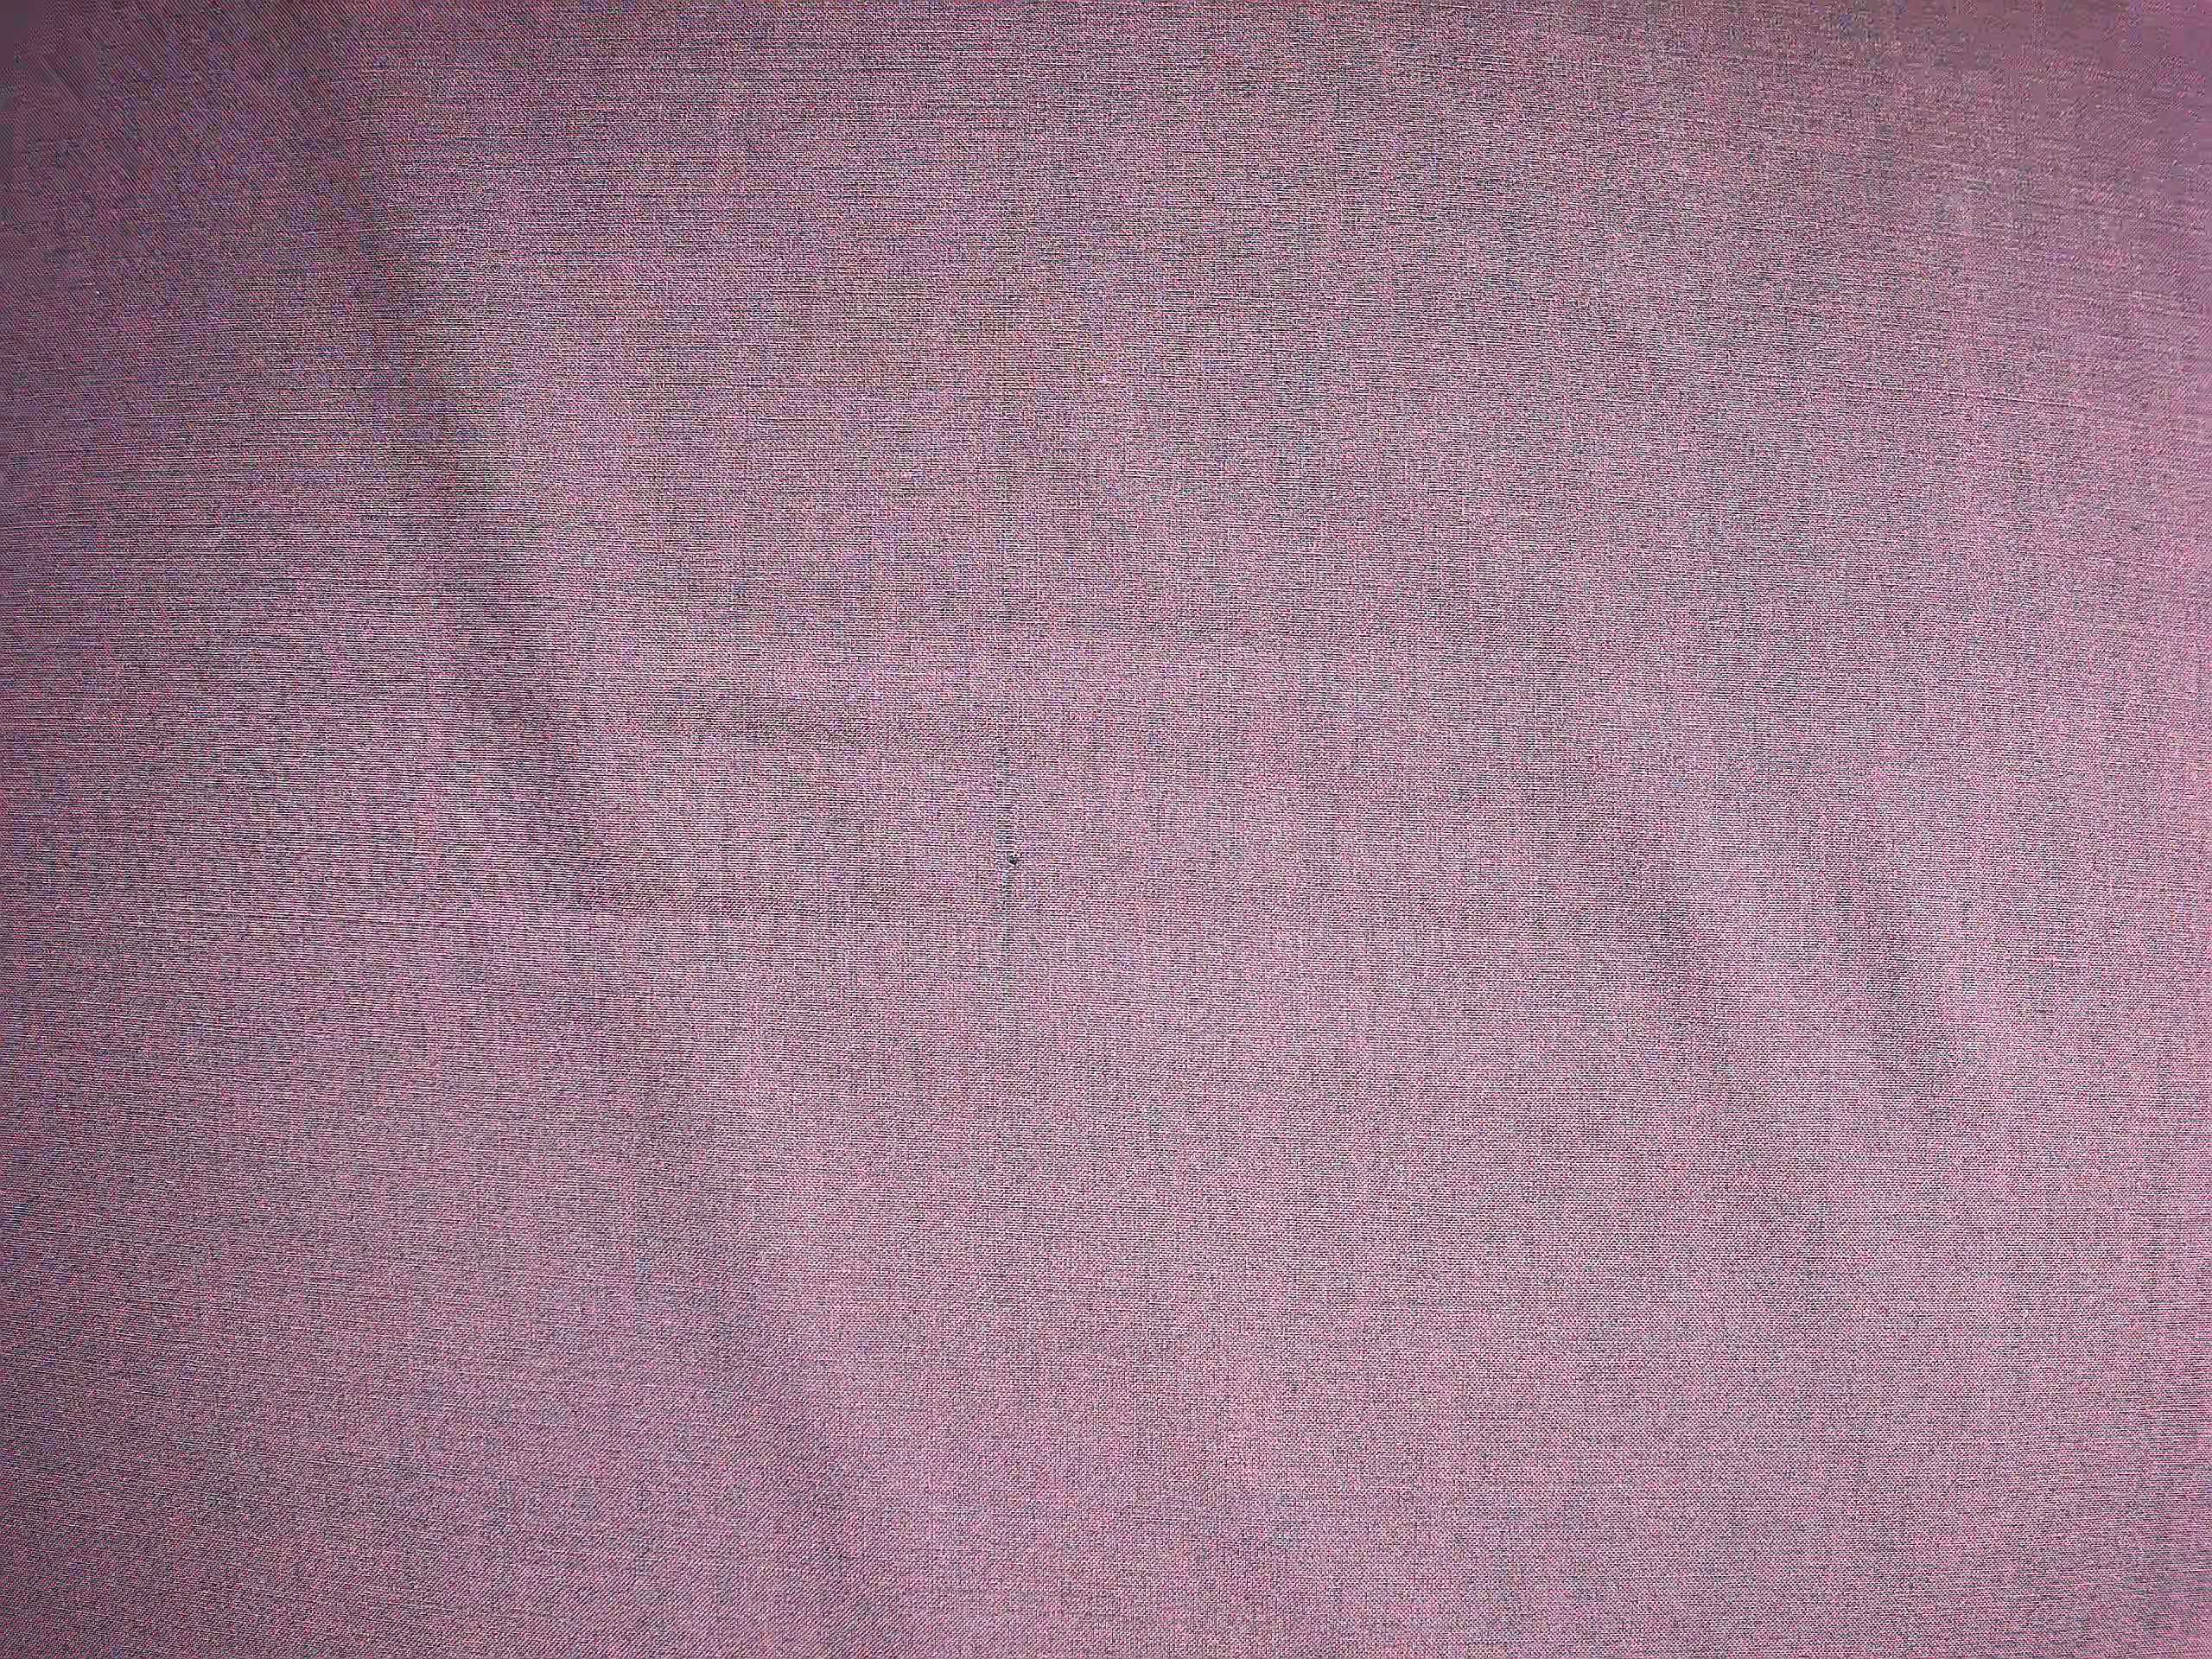jumps: (972, 708, 1042, 971)
